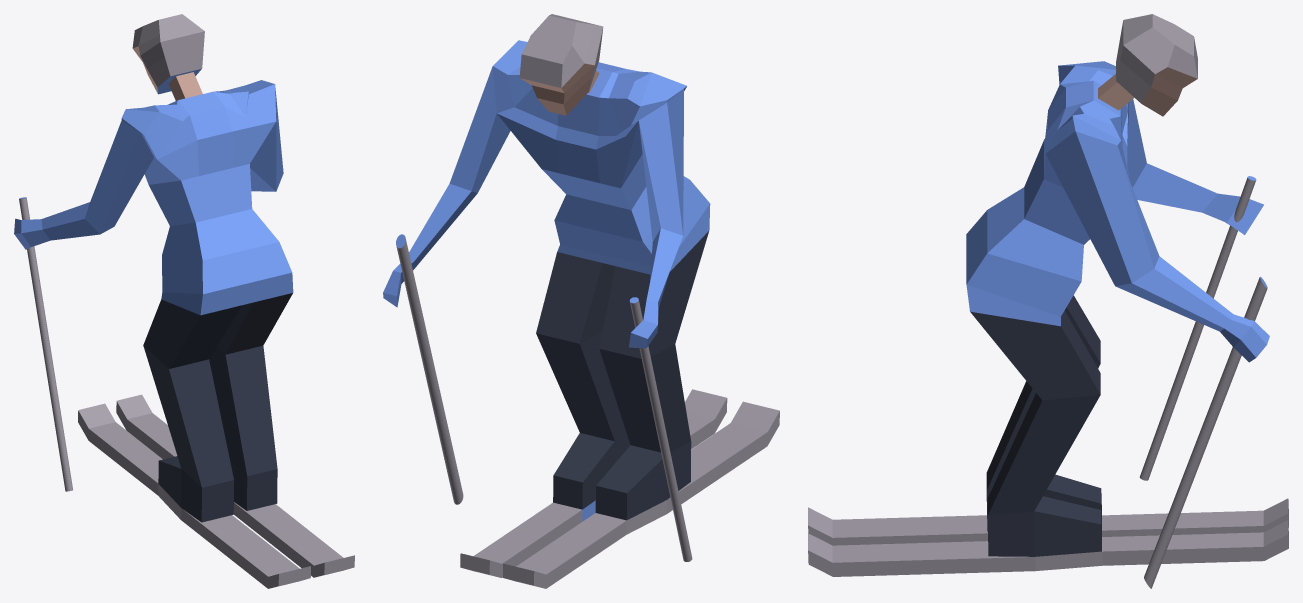
Rendered from perso.fbx.
3 views of the same model, side by side, from view 1: azimuth 30°, elevation 25°; view 2: azimuth 150°, elevation 25°; view 3: azimuth 270°, elevation 25° (orthographic). The views are drawn at different scales.
Visible parts, largest first — view 1: Cube; view 2: Cube; view 3: Cube.
Part boxes in pixels (x1=…): Cube: x1=14, y1=14, x2=354, y2=588; Cube: x1=383, y1=14, x2=779, y2=588; Cube: x1=808, y1=14, x2=1288, y2=588.
Bounding box in the file's own units: 124 × 195 × 240.
